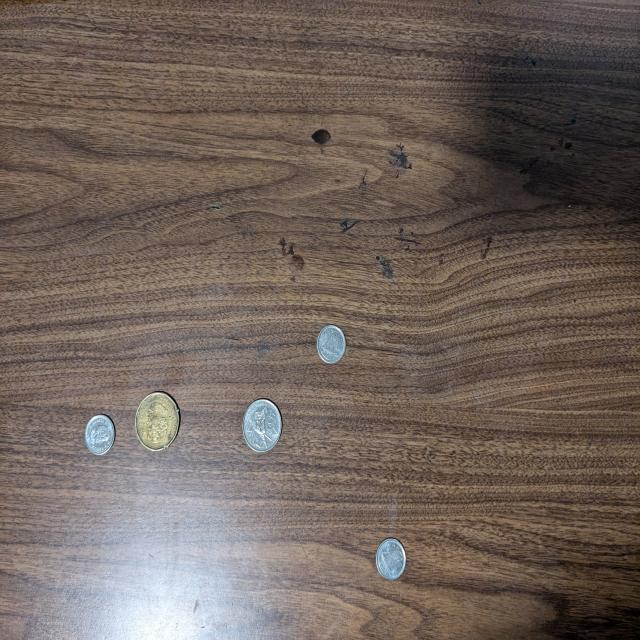dime: (376, 538, 407, 582), (317, 324, 347, 365), (86, 414, 114, 455)
loonie: (135, 392, 182, 453)
quarter: (243, 399, 282, 454)
